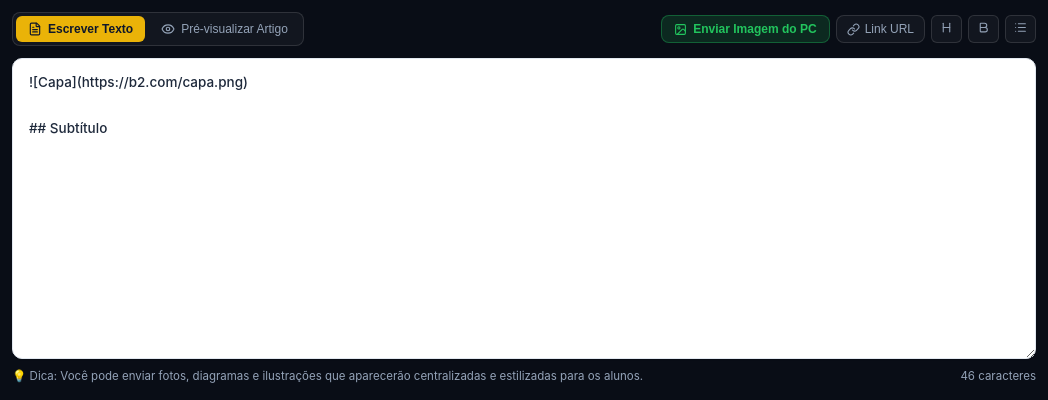
Scenario: LessonArticleEditor Component › allows inserting external image URL and renders preview
Note: Alterna para aba de pré-visualização
Click the button with test id "article-tab-preview-btn".
click(225, 29)  # box [149,16,300,42]
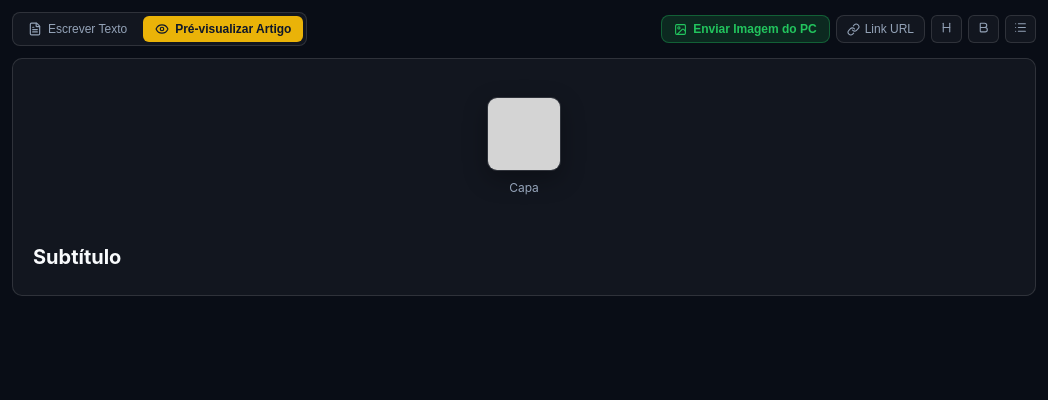
Expected: the element with test id "article-preview-container" is shown, [12,58,1036,296]
Expected: the heading "Subtítulo" is shown, [33,245,121,269]
